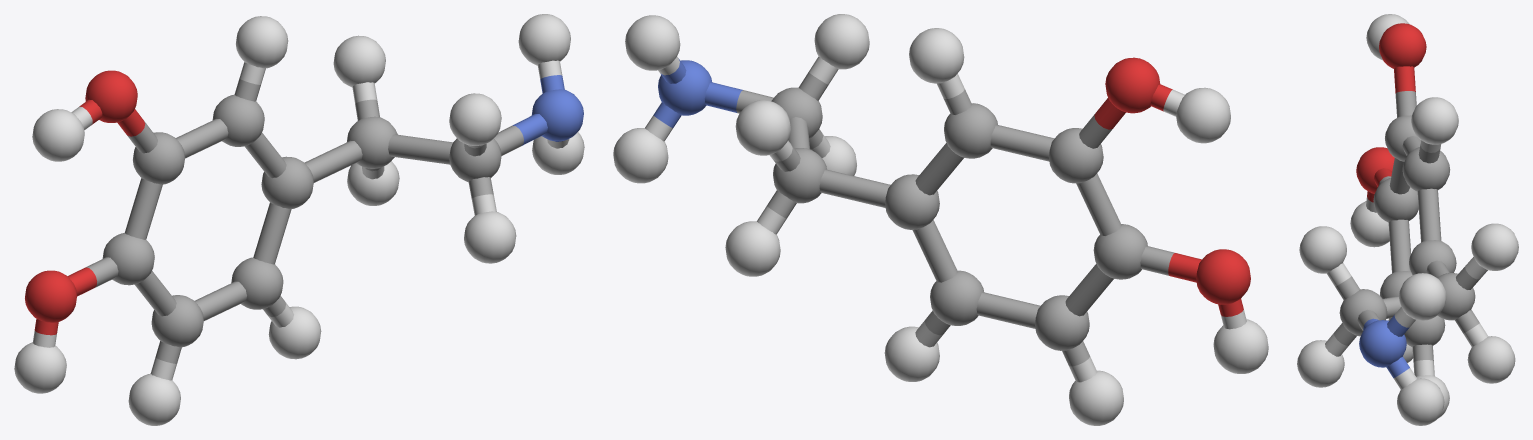
File: dopamine-bas.glb
3 renders of one model, left to right at view 1: azimuth 30°, elevation 25°; view 2: azimuth 150°, elevation 25°; view 3: azimuth 270°, elevation 25°, orthographic. The views are drawn at different scales.
Visible parts, largest first — view 1: dopamine-bas; view 2: dopamine-bas; view 3: dopamine-bas.
Part boxes in pixels (box(x1,y1,x2,y2)): dopamine-bas: box(14, 14, 584, 425); dopamine-bas: box(613, 14, 1268, 425); dopamine-bas: box(1297, 14, 1518, 425).
Bounding box in the file's own units: 9 × 5.22 × 3.25.
